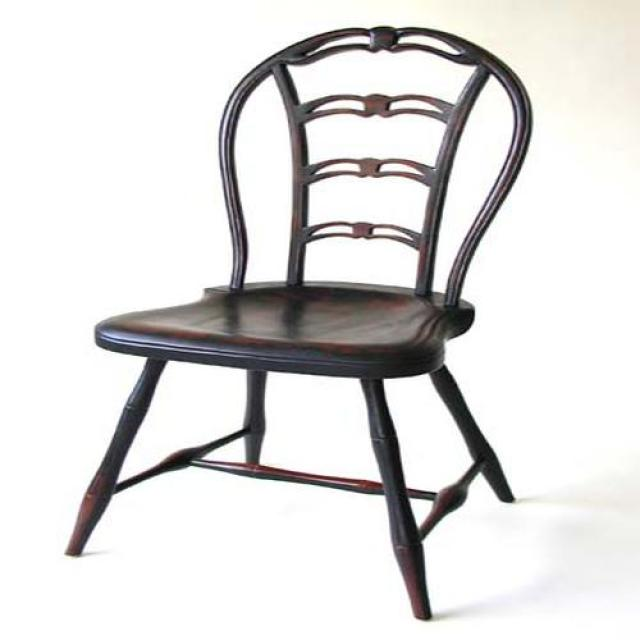chair: (67, 27, 534, 623)
